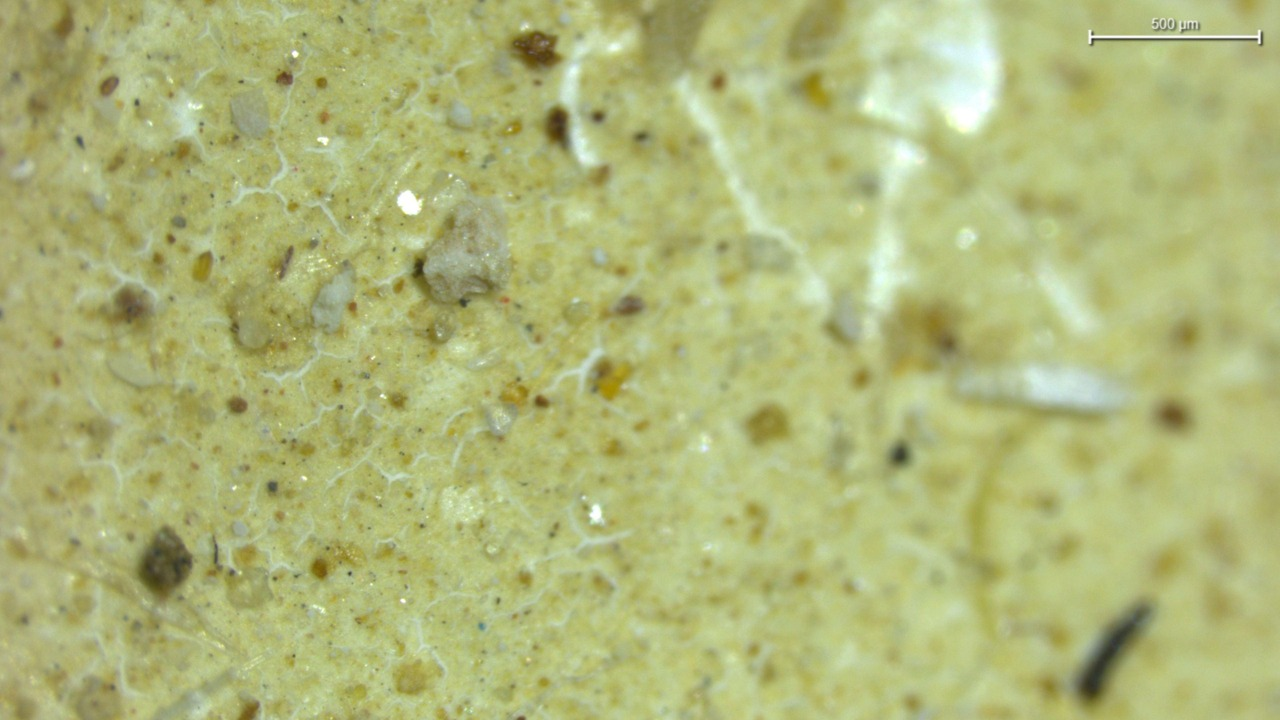microplastic_fragment: (418, 197, 516, 307), (312, 270, 356, 332), (486, 403, 518, 435)
